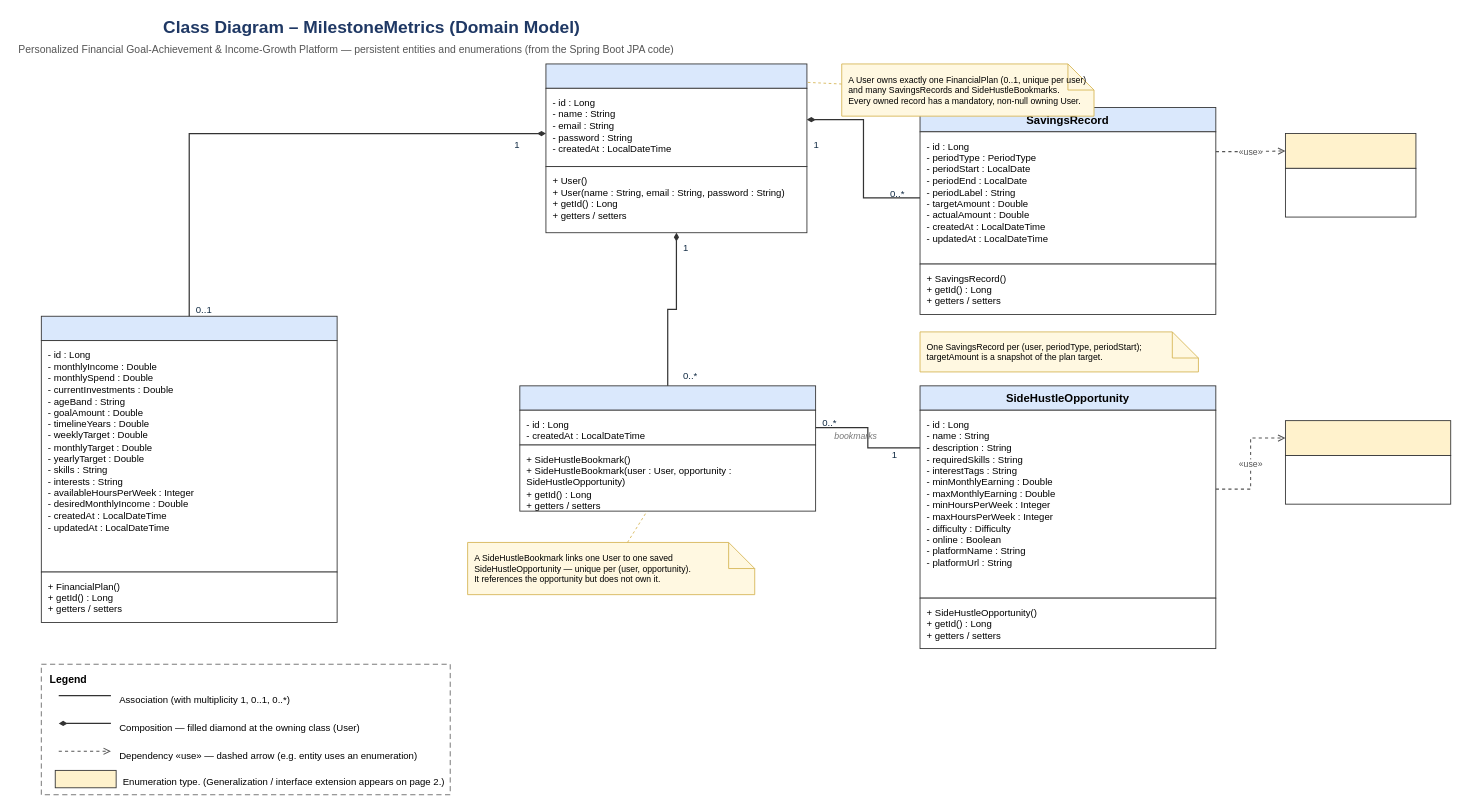
Image size: 1466x810. Some labels were removed from this diagram. The centre of each missing label's shape, as x and y in pixels:
"BEGINNER INTERMEDIATE ADVANCED" goes at [1368,479].
"FinancialPlan" goes at [188,328].
"SideHustleBookmark" goes at [667,397].
"User" goes at [676,75].
"WEEK MONTH YEAR" goes at [1350,192].
"«enumeration»" goes at [85,779].
"«enumeration» Difficulty" goes at [1368,437].
"«enumeration» PeriodType" goes at [1350,150].
